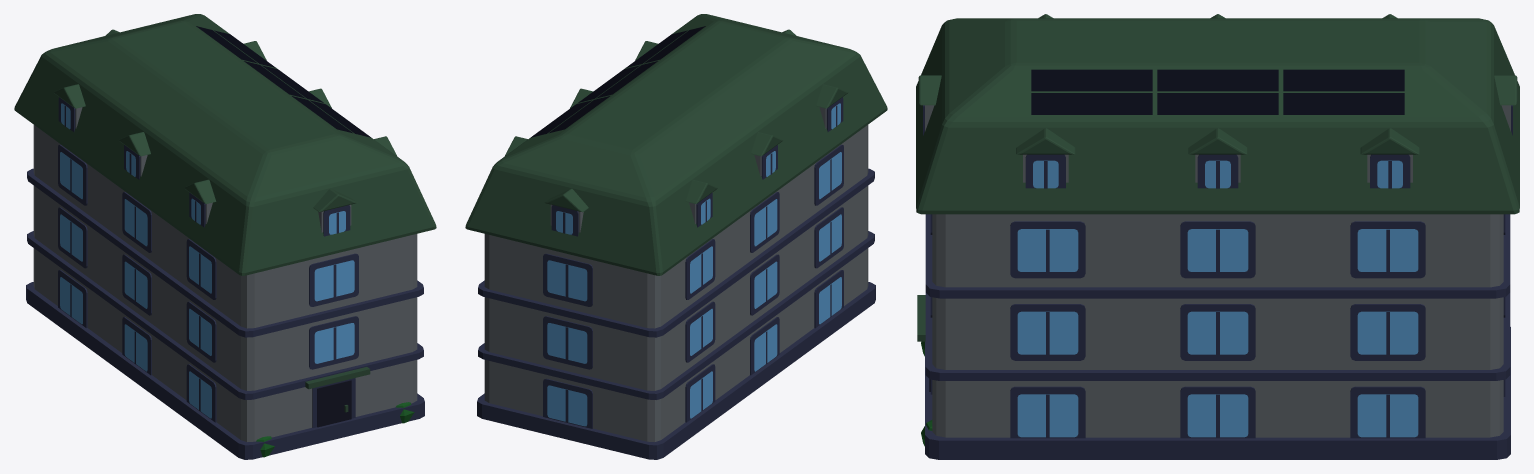
The model's file is house-1x2-3f-mansard-d-solar.glb.
3 views of the same model, side by side, from view 1: azimuth 30°, elevation 25°; view 2: azimuth 150°, elevation 25°; view 3: azimuth 270°, elevation 25° (orthographic). The views are drawn at different scales.
Parts seen in each view (by area): view 1: house-1x2-3f-mansard-d-solar; view 2: house-1x2-3f-mansard-d-solar; view 3: house-1x2-3f-mansard-d-solar.
Part boxes in pixels (x1,y1,x2,y2): house-1x2-3f-mansard-d-solar: [14, 14, 436, 459]; house-1x2-3f-mansard-d-solar: [465, 14, 887, 459]; house-1x2-3f-mansard-d-solar: [916, 14, 1519, 459].
Size of the model in its own units: 0.9876 by 1.3 by 1.99.
Materials: 1 (1 with a texture image).
